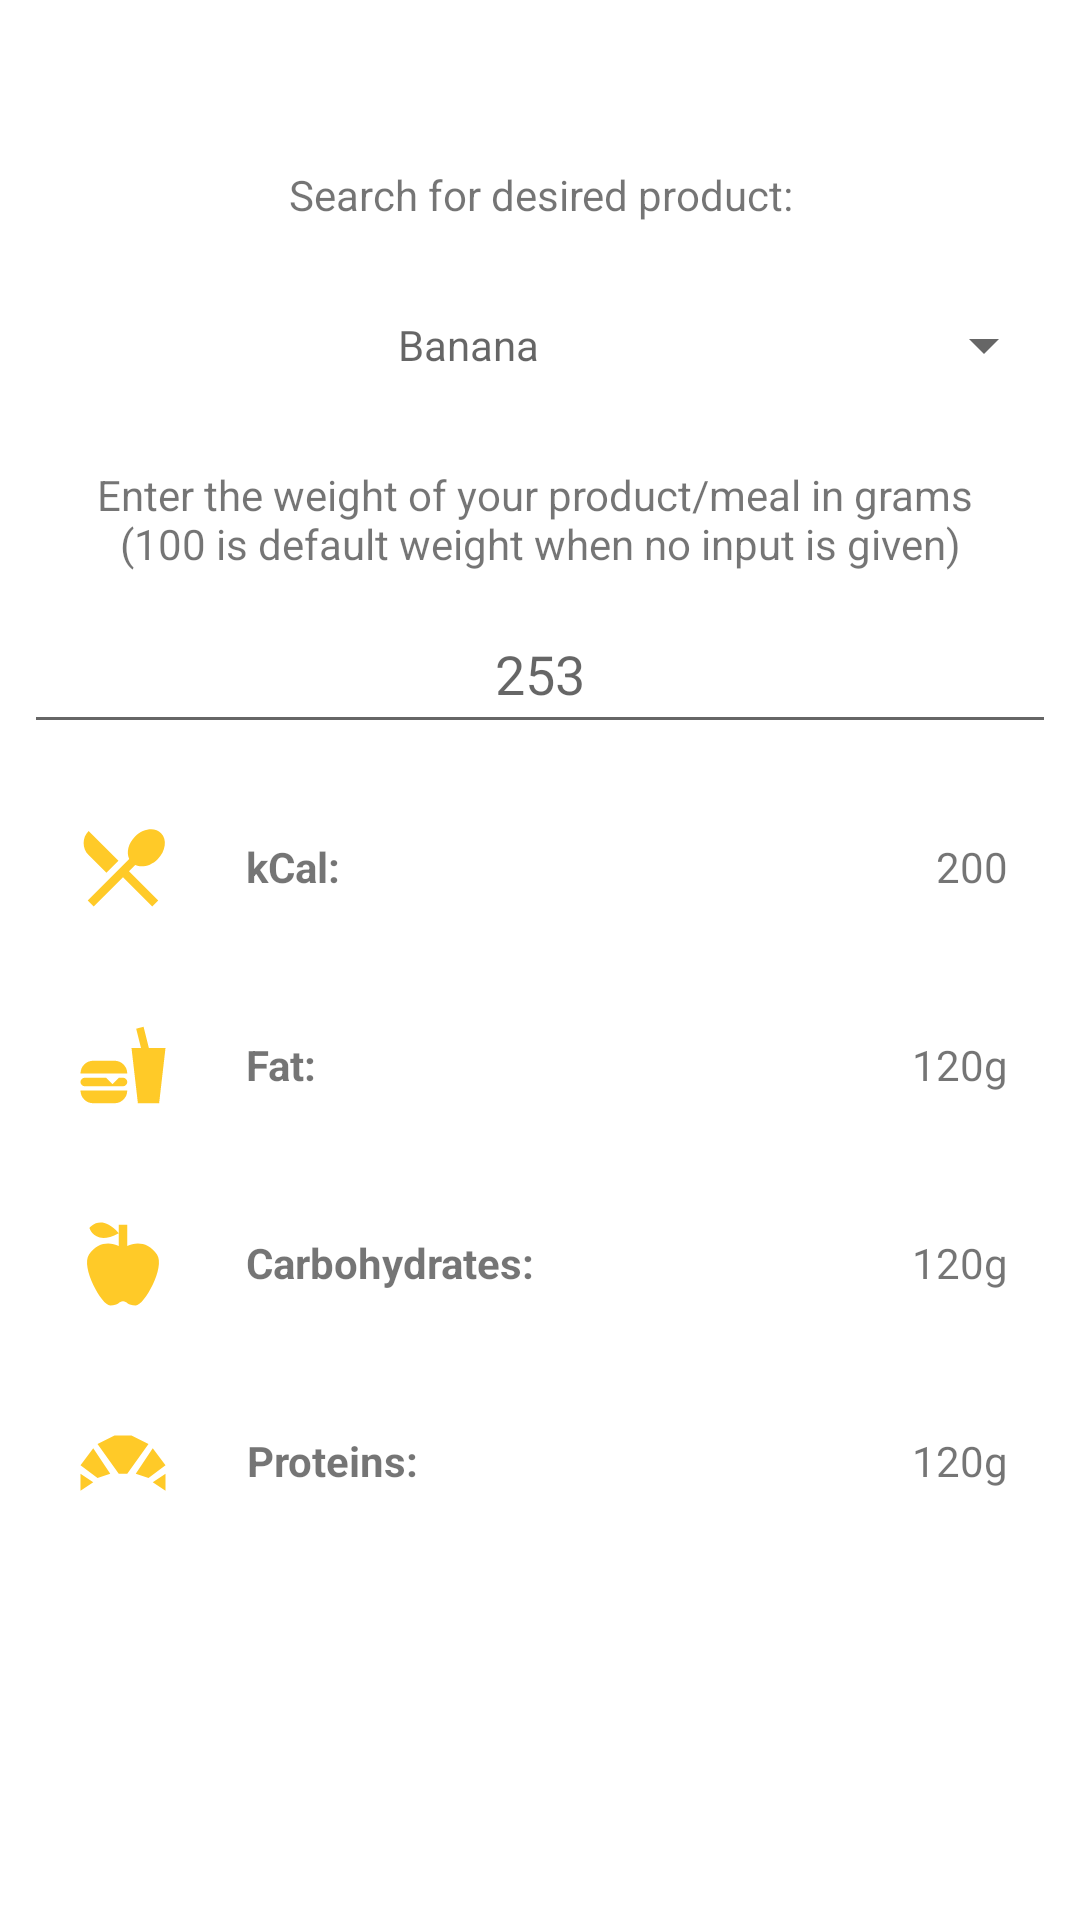

Point at icon controls on the screen. Image size 1080x1920, points as (x,y).
restaurant: (124,868)
